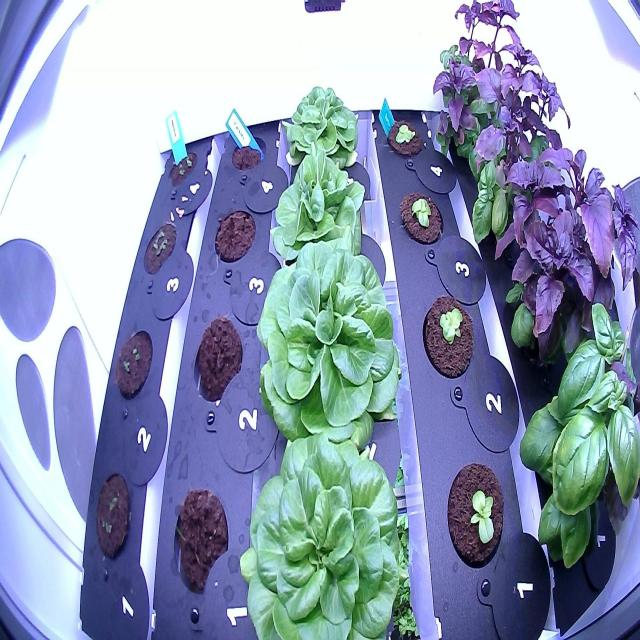germination: (87, 463, 136, 562), (111, 323, 158, 406), (140, 207, 182, 286), (162, 136, 201, 194)
pod: (170, 471, 235, 600), (184, 308, 246, 409), (210, 198, 258, 274), (226, 124, 266, 178)
young: (233, 427, 405, 639), (248, 232, 409, 453), (258, 136, 374, 271), (276, 70, 366, 175), (443, 455, 509, 577), (415, 287, 483, 387), (395, 178, 450, 252), (381, 103, 433, 167)
